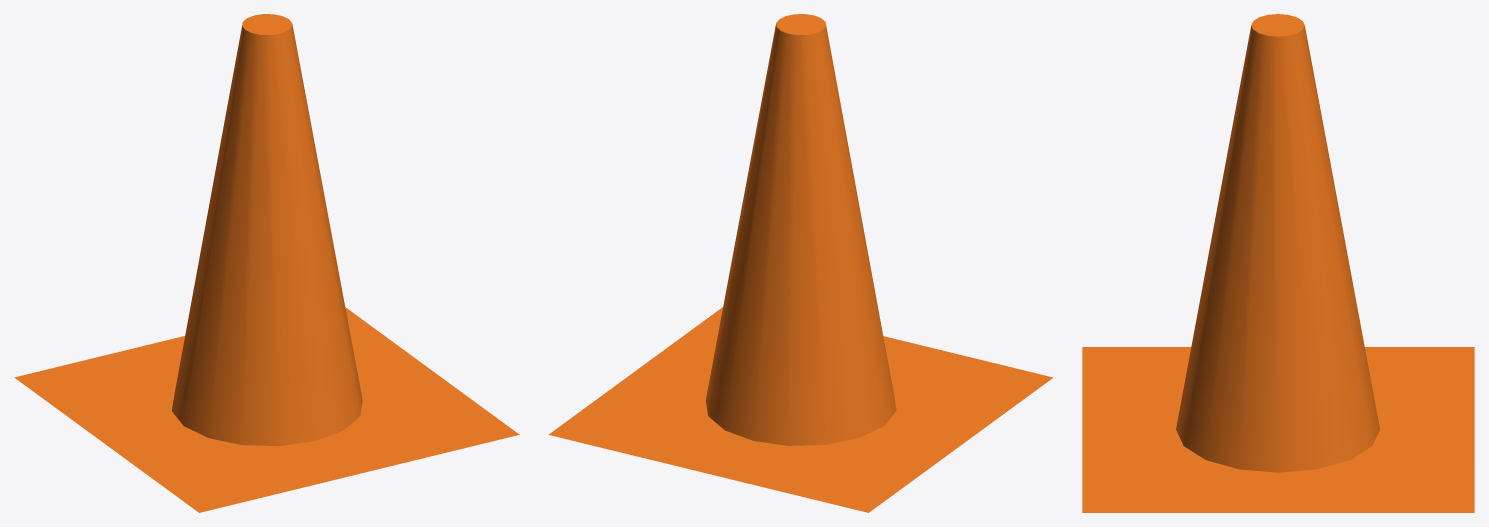
File: конус.fbx
3 views of the same model, side by side, from view 1: azimuth 30°, elevation 25°; view 2: azimuth 150°, elevation 25°; view 3: azimuth 270°, elevation 25° (orthographic). The views are drawn at different scales.
Visible parts, largest first — view 1: конус; view 2: конус; view 3: конус.
Part boxes in pixels (bbox=[...]): конус: bbox=[14, 14, 519, 512]; конус: bbox=[548, 14, 1053, 512]; конус: bbox=[1082, 14, 1474, 512].
Size of the model in its own units: 51.16 by 58.21 by 51.16.
